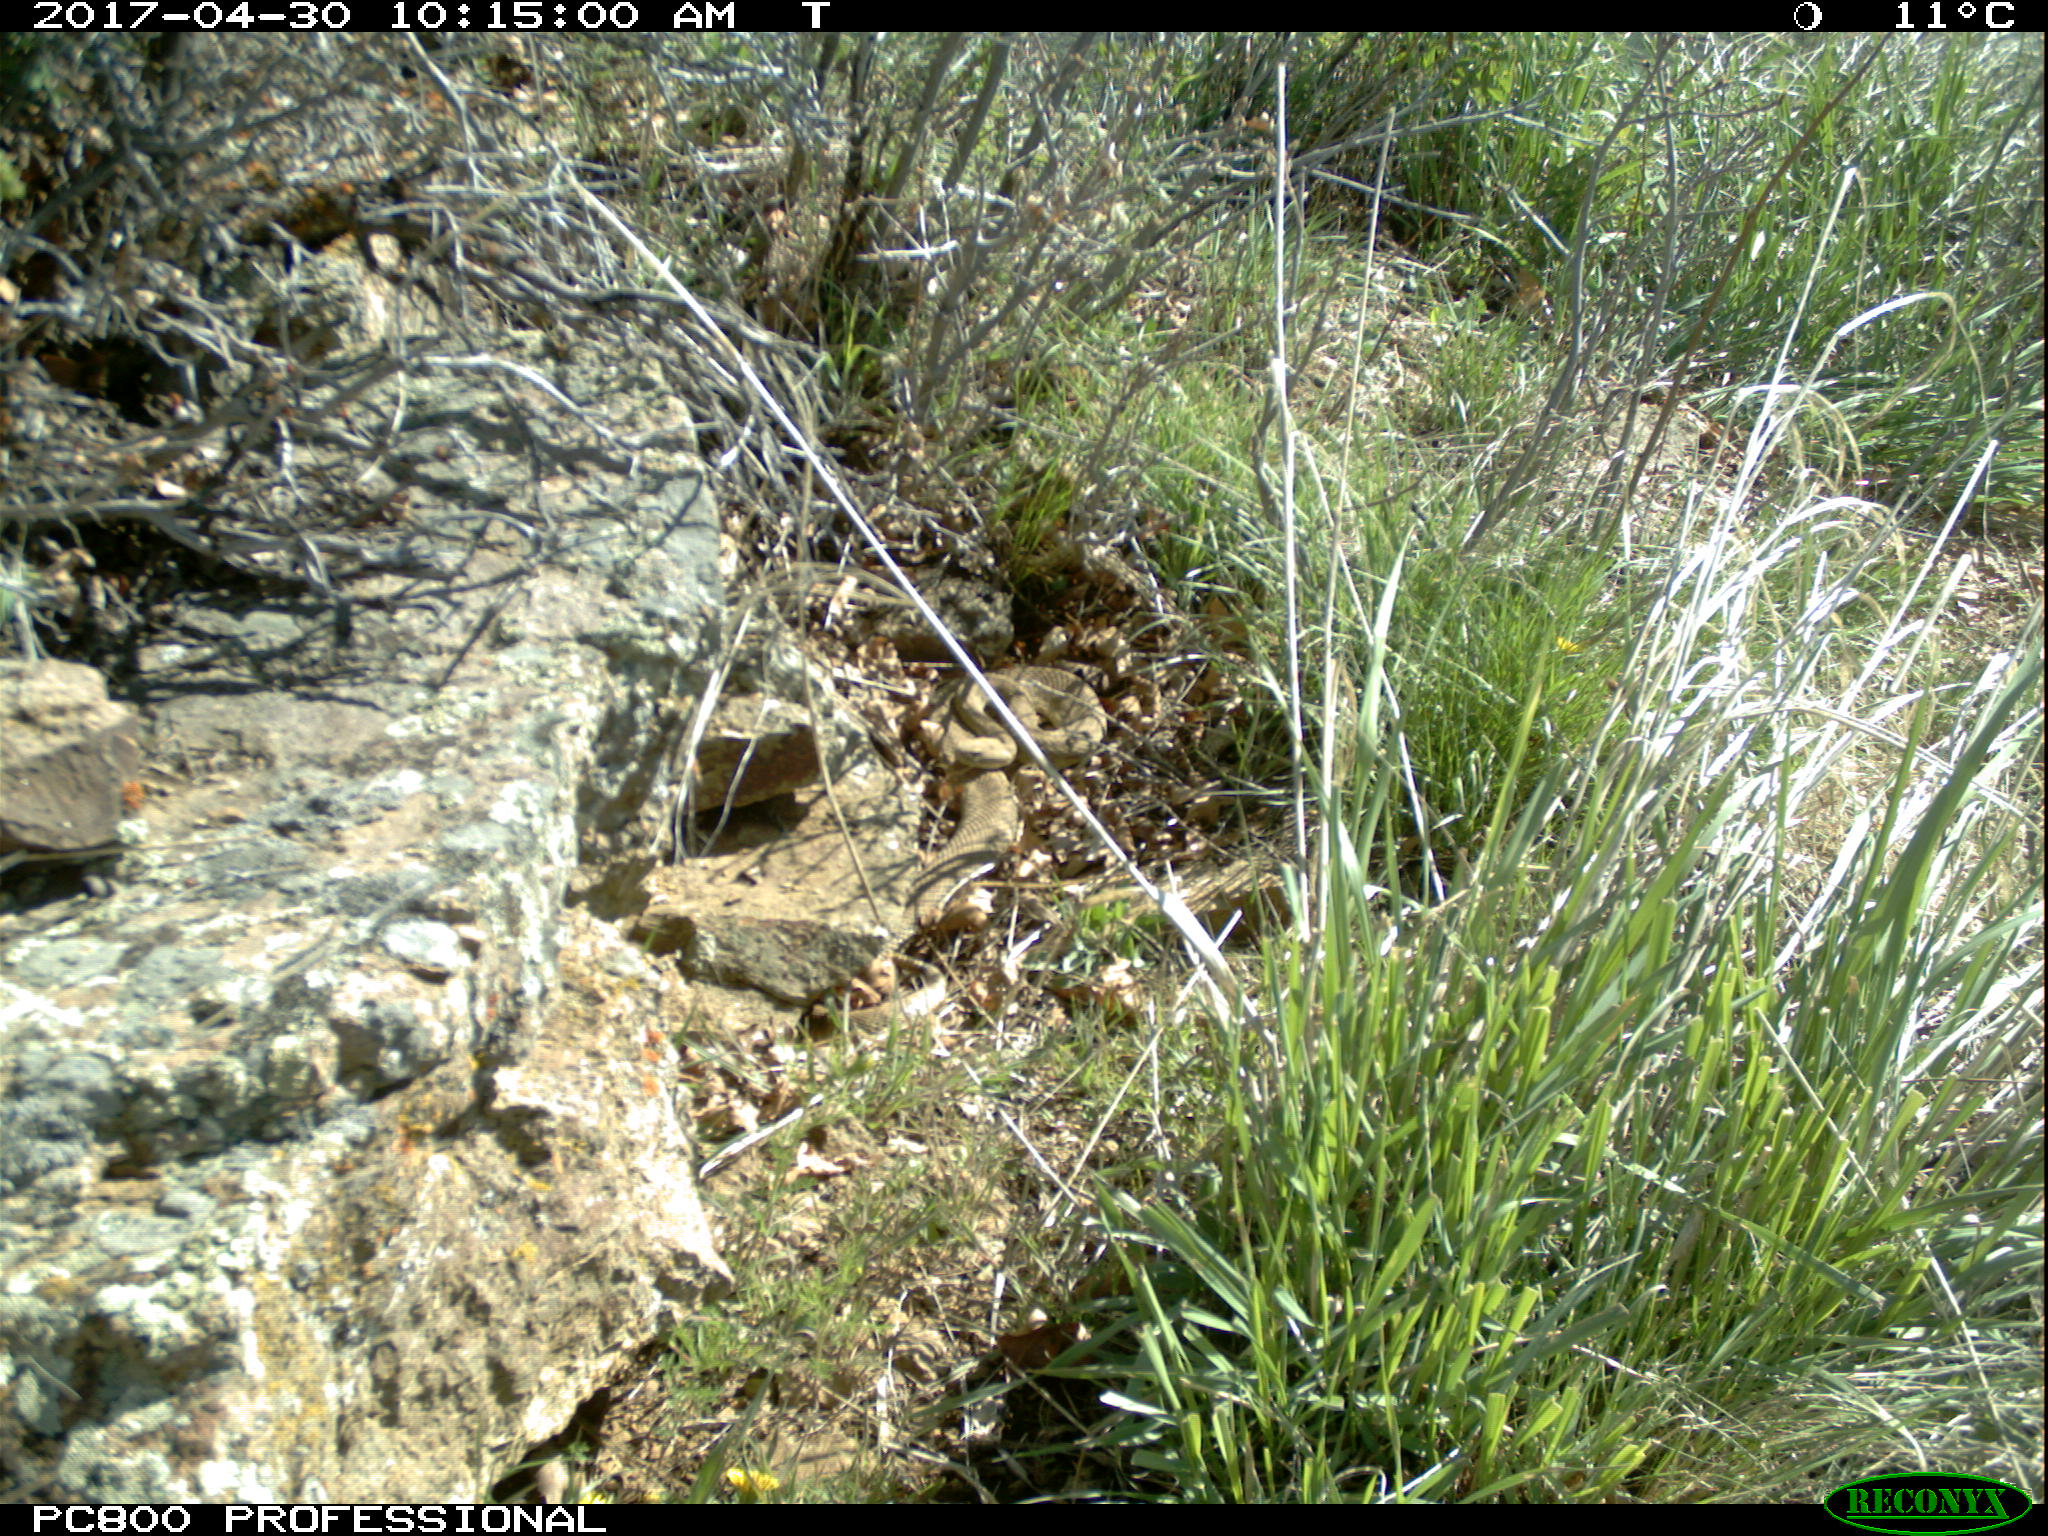snake: (892, 639, 1116, 929)
